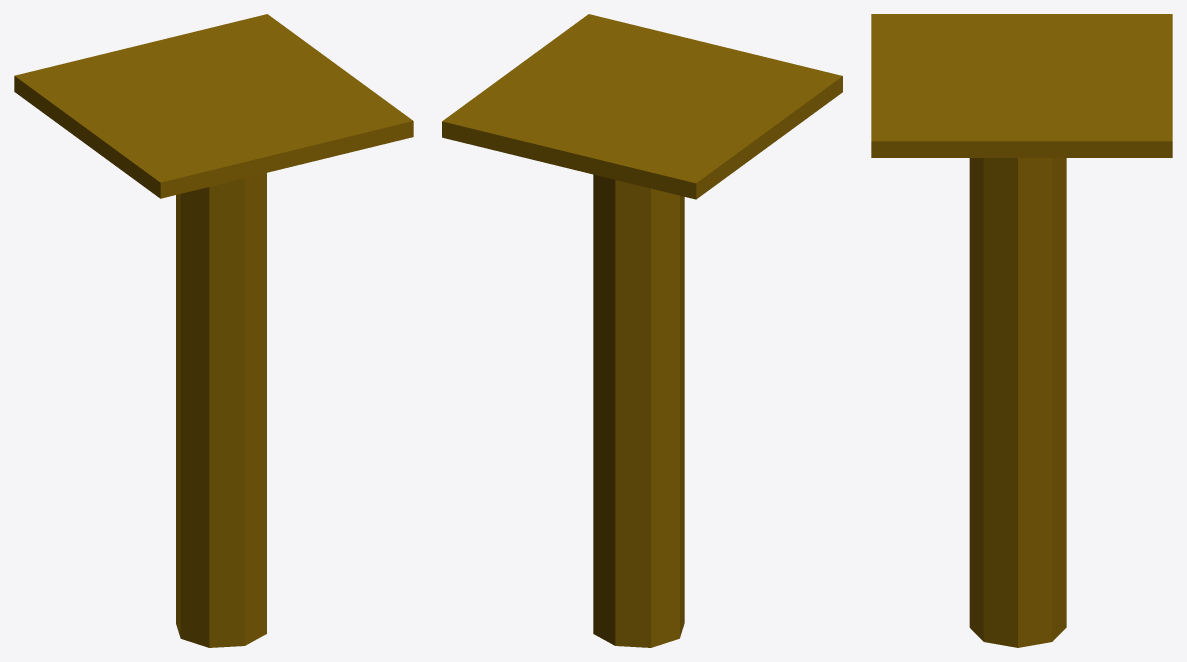
The model's file is Lamp_04_Tube_A.fbx.
The picture shows the model from 3 angles, left to right: view 1: azimuth 30°, elevation 25°; view 2: azimuth 150°, elevation 25°; view 3: azimuth 270°, elevation 25°; orthographic projection. The views are drawn at different scales.
Parts seen in each view (by area): view 1: Lamp_04_Tube_A; view 2: Lamp_04_Tube_A; view 3: Lamp_04_Tube_A.
Boxes of the visible parts, x1,y1,x2,y2 form: Lamp_04_Tube_A: (14,14,413,647); Lamp_04_Tube_A: (442,14,842,647); Lamp_04_Tube_A: (871,14,1172,647).
Size of the model in its own units: 12.85 by 25.74 by 12.85.
